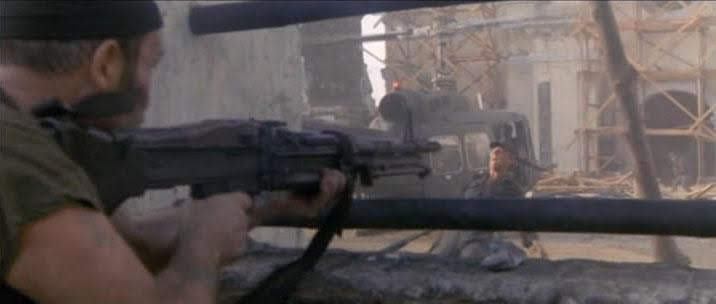gun: (23, 87, 451, 239)
